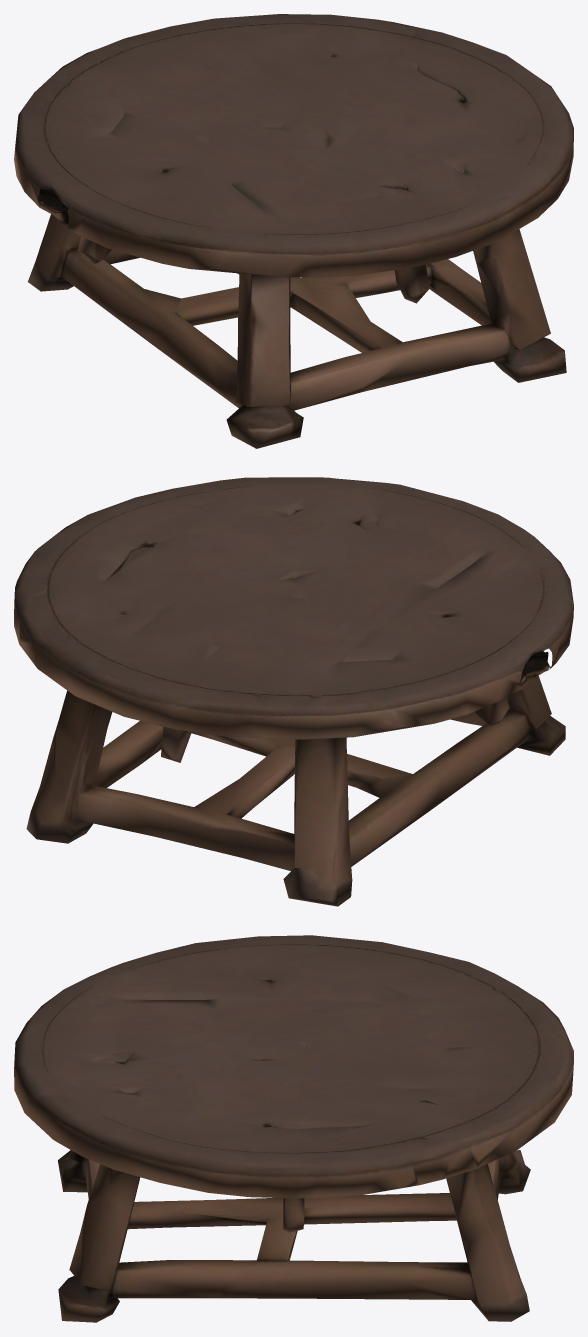
Rendered from chabudai.glb.
3 renders of one model, top to bottom at view 1: azimuth 30°, elevation 25°; view 2: azimuth 150°, elevation 25°; view 3: azimuth 270°, elevation 25°, orthographic.
Parts seen in each view (by area): view 1: tripo_node_804658df-a9f6-4f93-8612-ba3a133e253d; view 2: tripo_node_804658df-a9f6-4f93-8612-ba3a133e253d; view 3: tripo_node_804658df-a9f6-4f93-8612-ba3a133e253d.
Boxes of the visible parts, bbox=[...] form: tripo_node_804658df-a9f6-4f93-8612-ba3a133e253d: bbox=[14, 14, 573, 448]; tripo_node_804658df-a9f6-4f93-8612-ba3a133e253d: bbox=[14, 477, 573, 906]; tripo_node_804658df-a9f6-4f93-8612-ba3a133e253d: bbox=[14, 935, 573, 1322].
Bounding box in the file's own units: 0.9956 × 0.388 × 1.
1 material, 1 textured.
